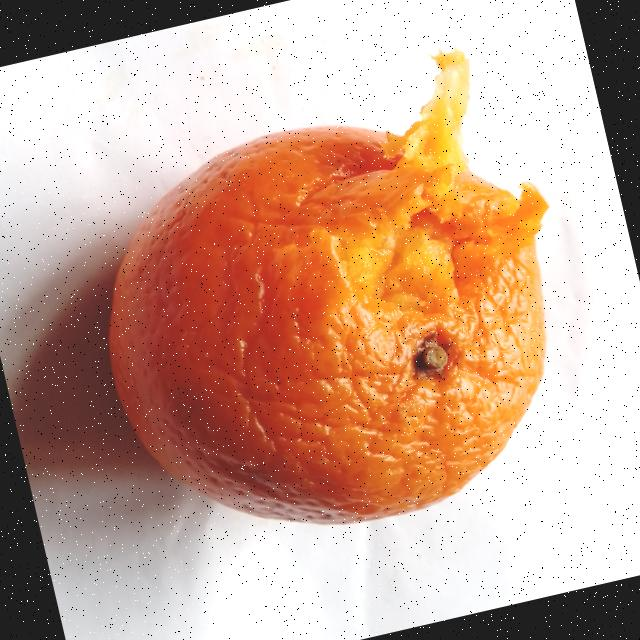Rotten: (56, 33, 609, 573)
